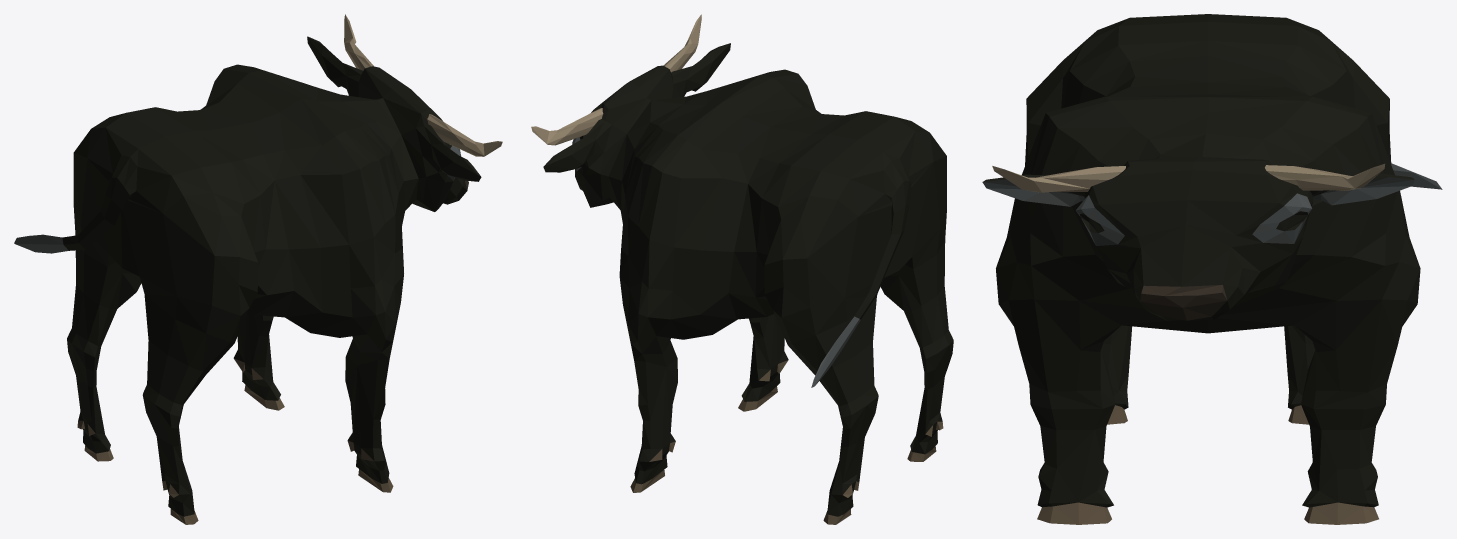
The model's file is bull.glb.
The picture shows the model from 3 angles, left to right: view 1: azimuth 30°, elevation 25°; view 2: azimuth 150°, elevation 25°; view 3: azimuth 270°, elevation 25°; orthographic projection. The views are drawn at different scales.
Bounding box in the file's own units: 1 × 1 × 0.9991.
